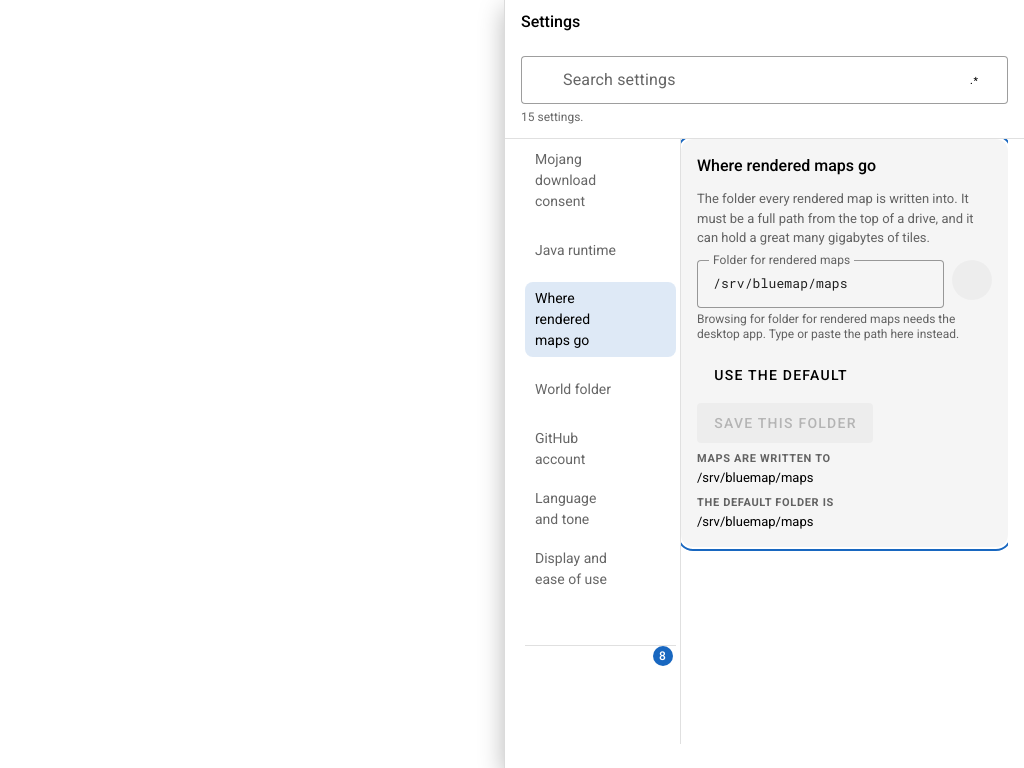
Scenario: the storage folder › saves an absolute path, and reports where it landed
Replace the text in the field labelled "Folder for rendered maps" with "/home/you/minecraft/maps": (820, 284) [697,260,944,308]
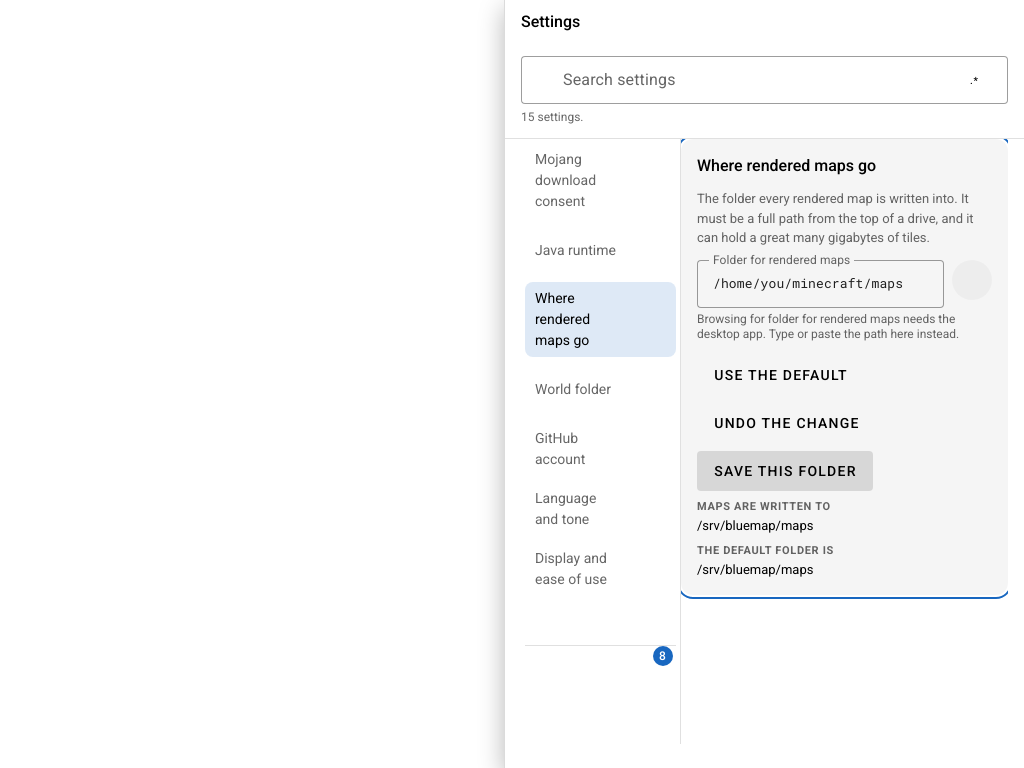
Check: the button with class "mb-storage-setting__save" is enabled
Click the button with class "mb-storage-setting__save": (785, 471) [697,451,873,491]
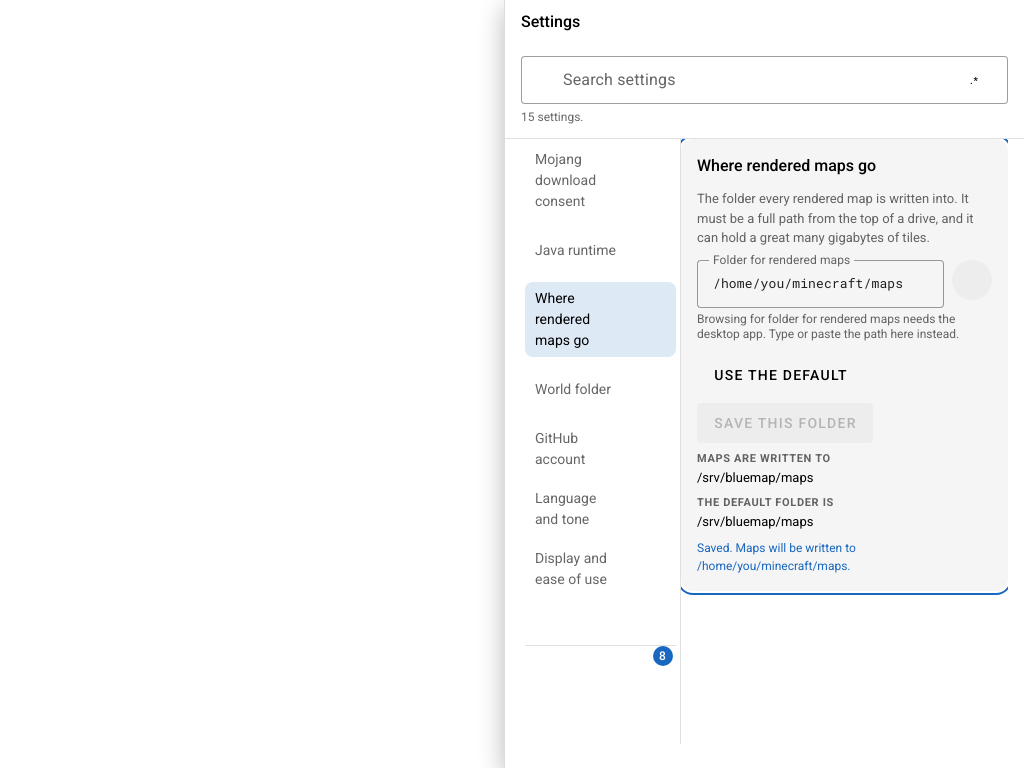
Check: the message with class "mb-storage-setting__saved" shows "/home/you/minecraft/maps", box [697,541,856,573]
